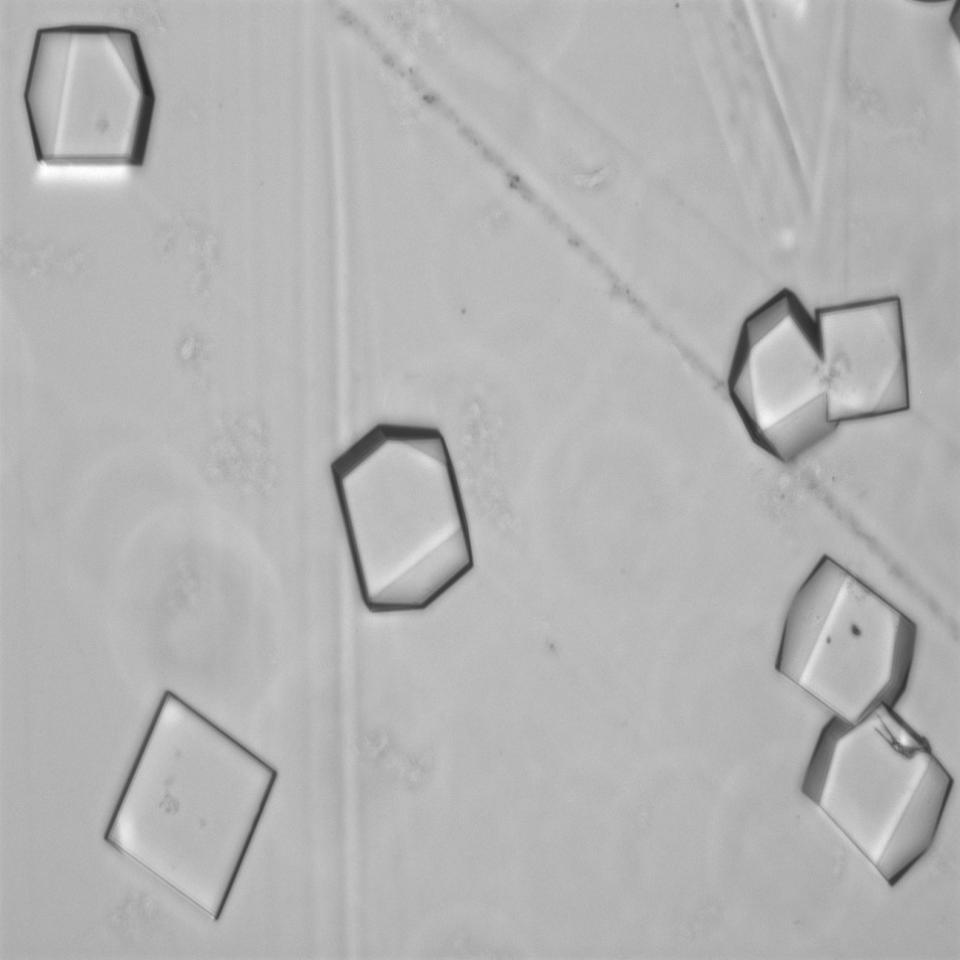crystal: (107, 676, 277, 918), (804, 700, 954, 890), (330, 422, 474, 614), (777, 555, 914, 727), (16, 22, 156, 180), (729, 291, 826, 460)
